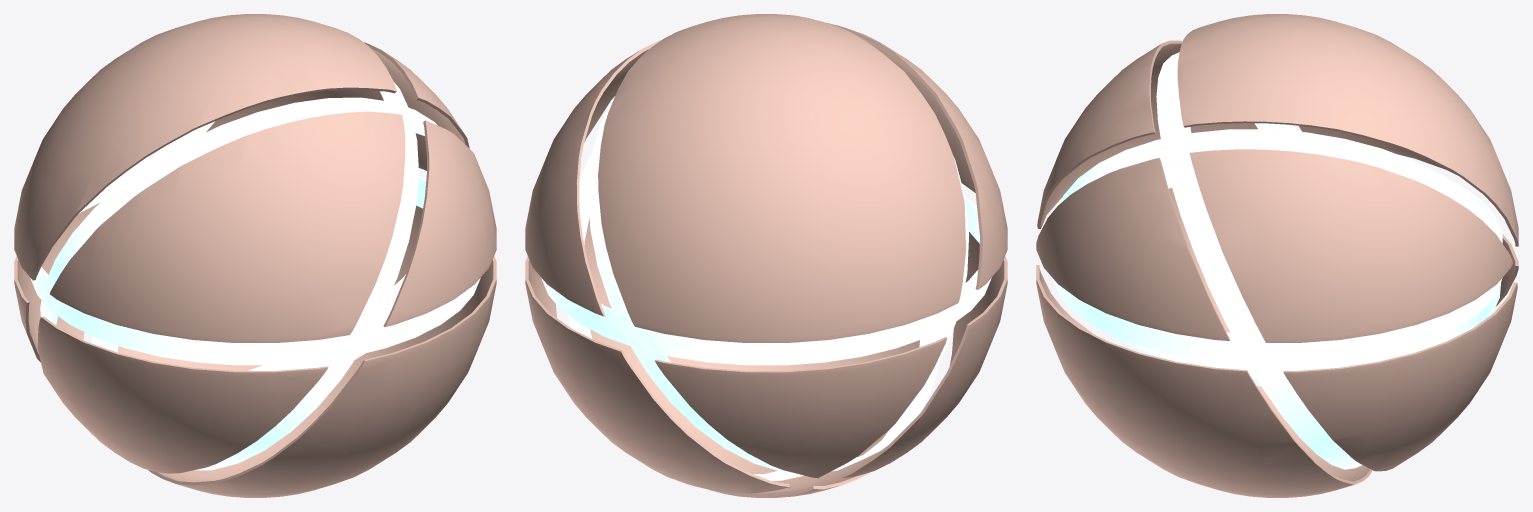
3 views of the same model, side by side, from view 1: azimuth 30°, elevation 25°; view 2: azimuth 150°, elevation 25°; view 3: azimuth 270°, elevation 25° (orthographic).
Parts seen in each view (by area): view 1: SM_nea_sfaira; view 2: SM_nea_sfaira; view 3: SM_nea_sfaira.
Boxes of the visible parts, left/top/right/bottom form: SM_nea_sfaira: left=14, top=14, right=496, bottom=497; SM_nea_sfaira: left=525, top=14, right=1007, bottom=497; SM_nea_sfaira: left=1036, top=14, right=1518, bottom=497.
Bounding box in the file's own units: 1.5 × 1.5 × 1.5.
